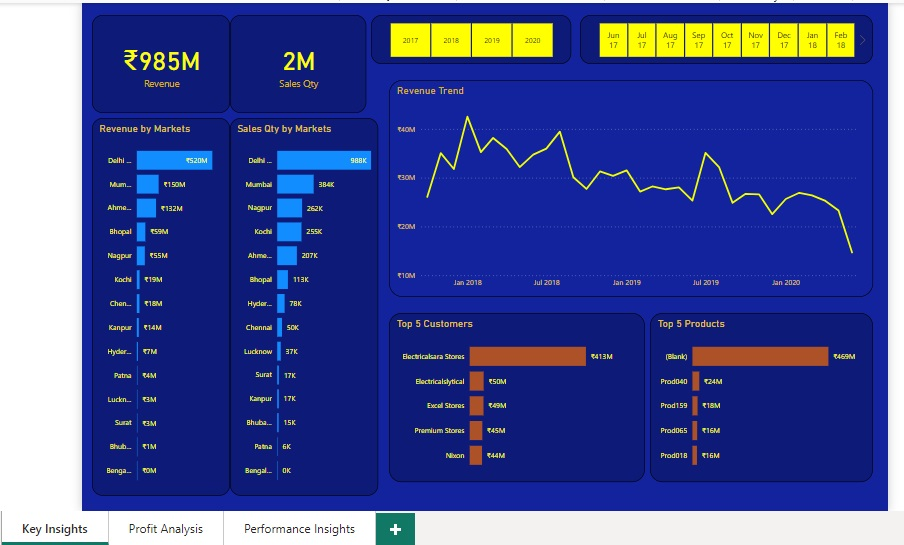

This screenshot's page, from the dashboard's own definition file:
{"tool":"powerbi","page":{"name":"Key Insights","canvas":[1350,850],"ordinal":0},"visuals":[{"type":"card","fields":{"Values":["BaseMeasures (2).Revenue"]},"box":[16.7,20.1,230.9,164],"z":0},{"type":"card","fields":{"Values":["BaseMeasures (2).Sales Qty"]},"box":[247.6,20.1,227.6,164],"z":1000},{"type":"barChart","title":"Revenue by Markets","fields":{"Y":["BaseMeasures (2).Revenue"],"Category":["sales markets.markets_name"]},"box":[16.7,192.4,230.9,632.5],"z":2000},{"type":"barChart","title":"Sales Qty by Markets","fields":{"Y":["BaseMeasures (2).Sales Qty"],"Category":["sales markets.markets_name"]},"box":[247.9,193.1,247.9,631.9],"z":3000},{"type":"slicer","fields":{"Values":["sales date.year"]},"box":[483.6,20.1,334.6,82],"z":4000},{"type":"slicer","fields":{"Values":["sales date.cy_date"]},"box":[833.3,20.1,490.3,82],"z":5000},{"type":"barChart","title":"Top 5 Customers","fields":{"Y":["BaseMeasures (2).Revenue"],"Category":["sales customers.custmer_name"]},"box":[513.7,518.7,428.3,282.8],"z":6000},{"type":"barChart","title":"Top 5 Products","fields":{"Y":["BaseMeasures (2).Revenue"],"Category":["sales products.product_code"]},"box":[950.4,518.7,373.1,282.8],"z":7000},{"type":"lineChart","title":"Revenue Trend","fields":{"Y":["BaseMeasures (2).Revenue"],"Category":["sales date.cy_date"]},"box":[513.7,128.8,809.8,363.1],"z":8000}]}

Visuals, with their boxes on the page's 1350x850 design canvas (x1, y1, x2, y2). These are canvas units, not pixel positions in the 904x545 screenshot, which may show the page scaled, cropped or inside an application window:
card - BaseMeasures (2).Revenue: box(17, 20, 248, 184)
card - BaseMeasures (2).Sales Qty: box(248, 20, 475, 184)
"Revenue by Markets" barChart: box(17, 192, 248, 825)
"Sales Qty by Markets" barChart: box(248, 193, 496, 825)
slicer - sales date.year: box(484, 20, 818, 102)
slicer - sales date.cy_date: box(833, 20, 1324, 102)
"Top 5 Customers" barChart: box(514, 519, 942, 802)
"Top 5 Products" barChart: box(950, 519, 1324, 802)
"Revenue Trend" lineChart: box(514, 129, 1324, 492)
